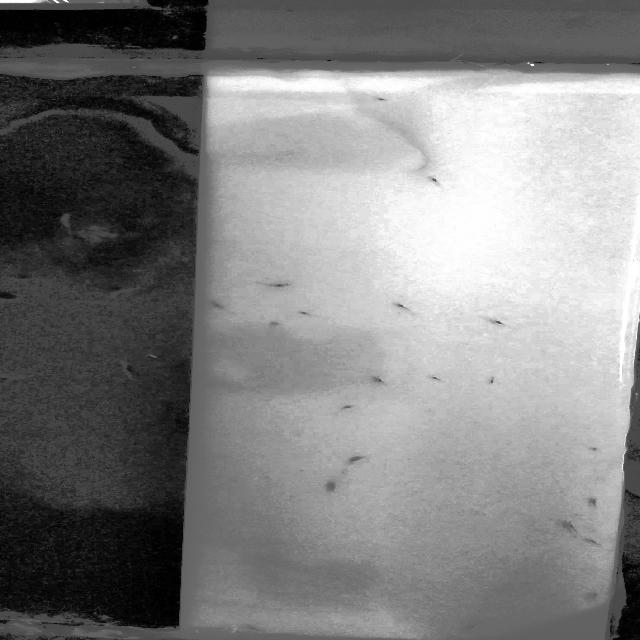shrimp: (418, 172, 450, 190), (263, 278, 292, 294), (458, 618, 486, 634), (363, 92, 394, 106), (364, 371, 391, 387), (580, 531, 602, 547), (206, 299, 230, 311), (322, 481, 346, 493), (345, 454, 367, 466), (488, 316, 508, 329), (584, 496, 604, 509), (244, 623, 270, 633), (562, 520, 582, 532), (293, 310, 321, 318), (394, 303, 418, 312), (587, 590, 605, 602), (482, 377, 501, 388), (425, 376, 446, 385), (344, 404, 358, 414)
